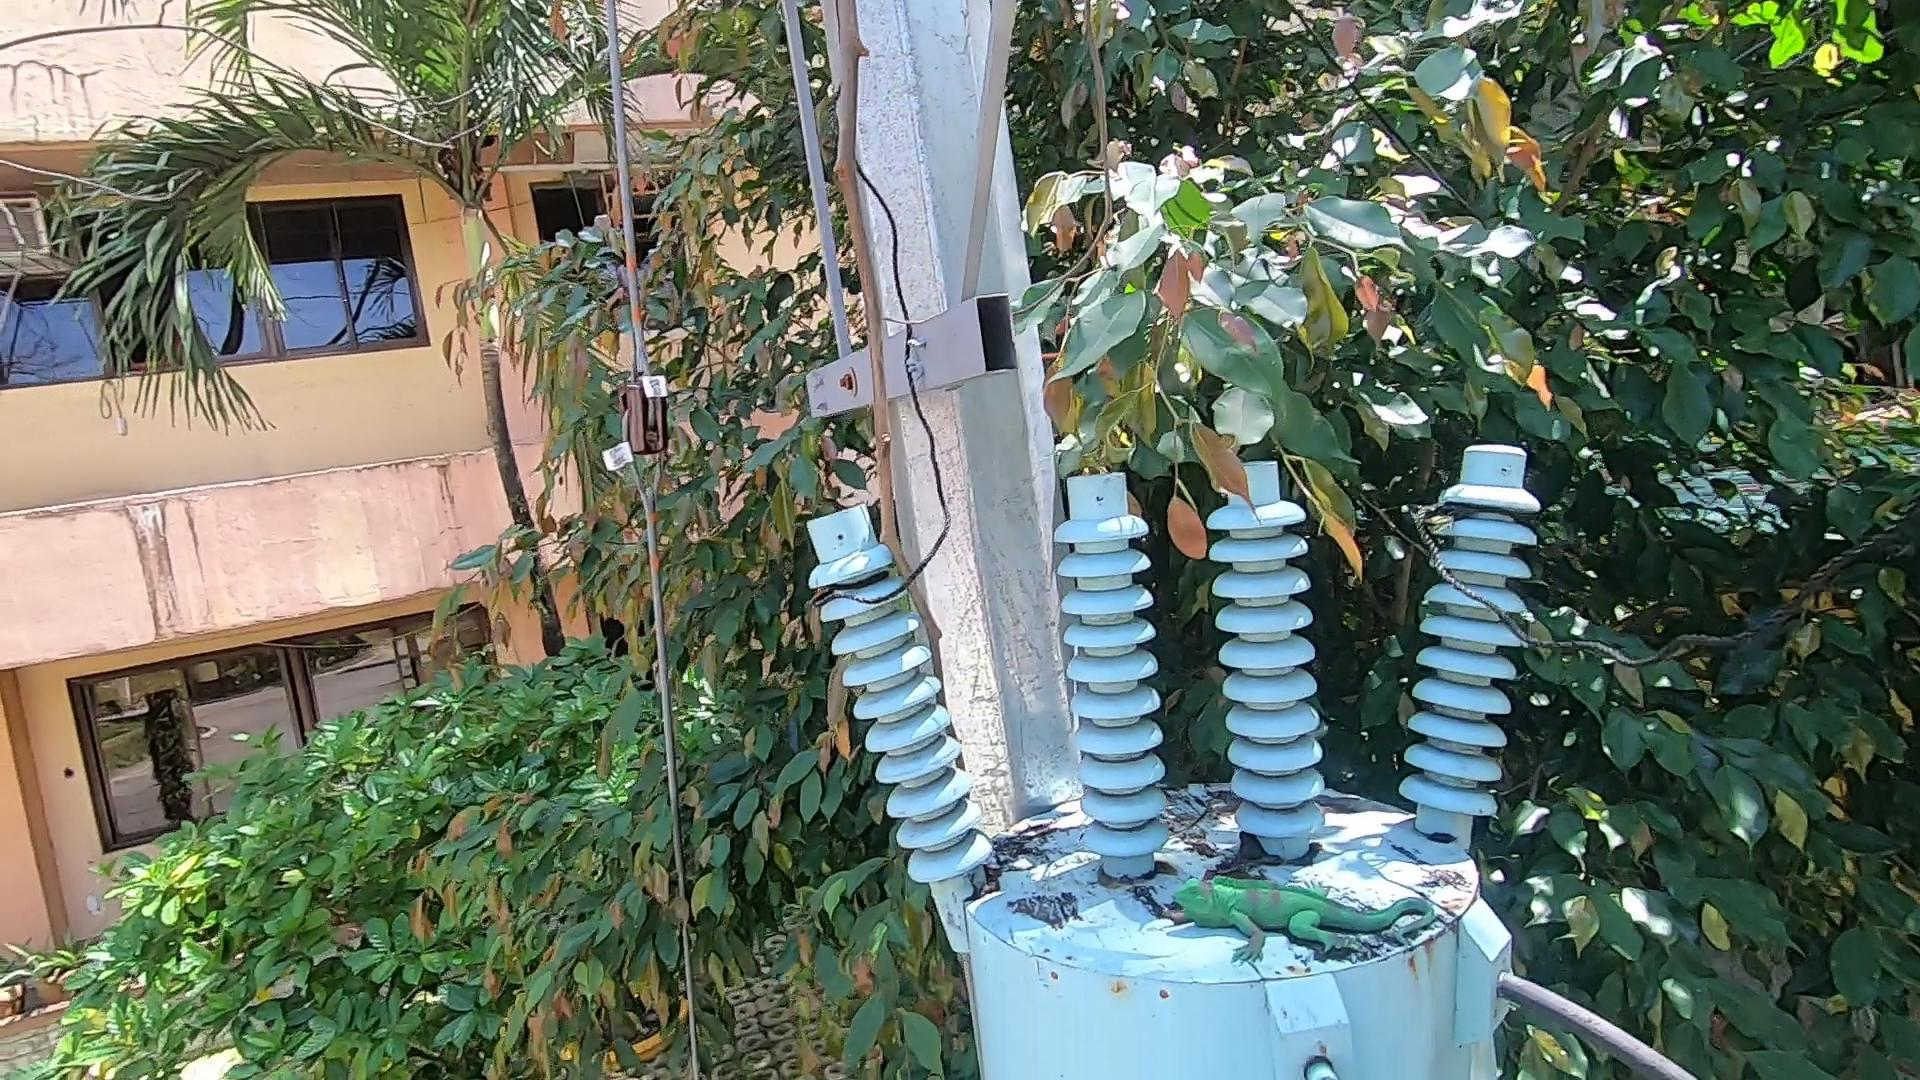branch with leaves: (1098, 339, 1386, 591)
leaf: (1197, 829, 1284, 880), (963, 862, 1026, 903)
tree branch: (770, 3, 990, 767)
